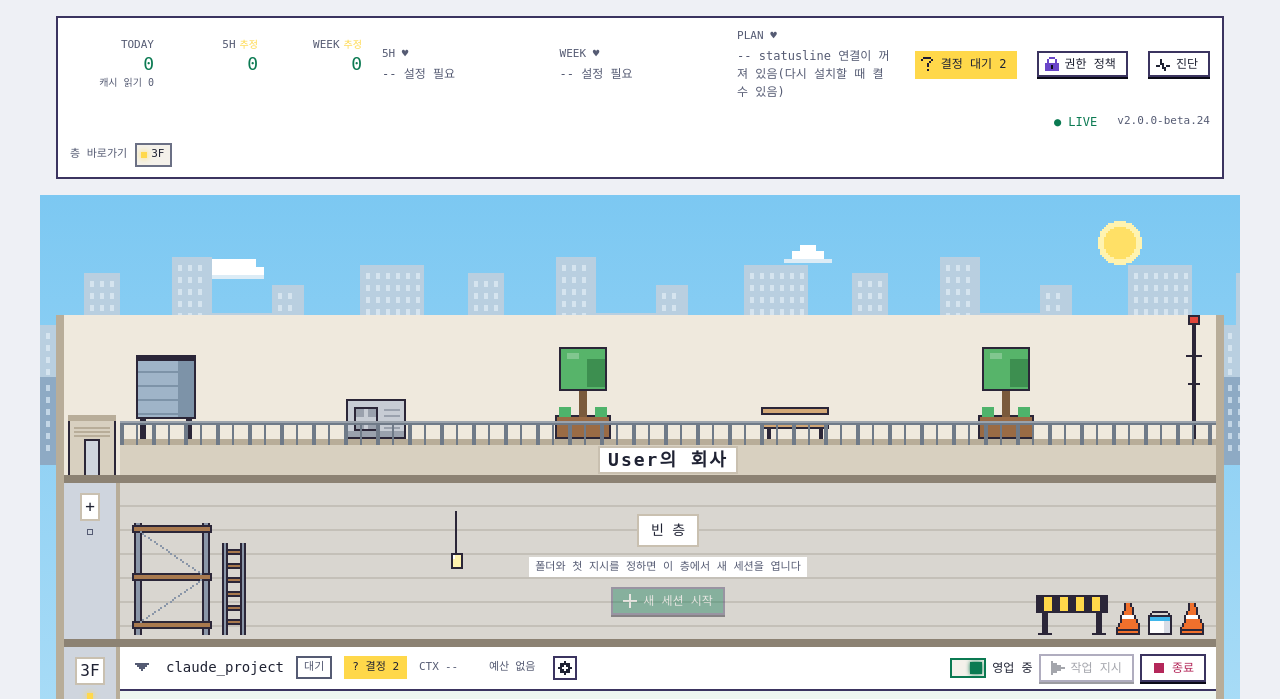
Test: 결정 보고서 열기 › HUD 칩을 누르면 가장 오래 기다린 결정이 열린다
This screenshot has width=1280, height=699.
Step 1. Click the button with aria-label "결정 대기 2건, 다음 요청 열기" → {"x": 966, "y": 64}, box [915, 51, 1016, 77]
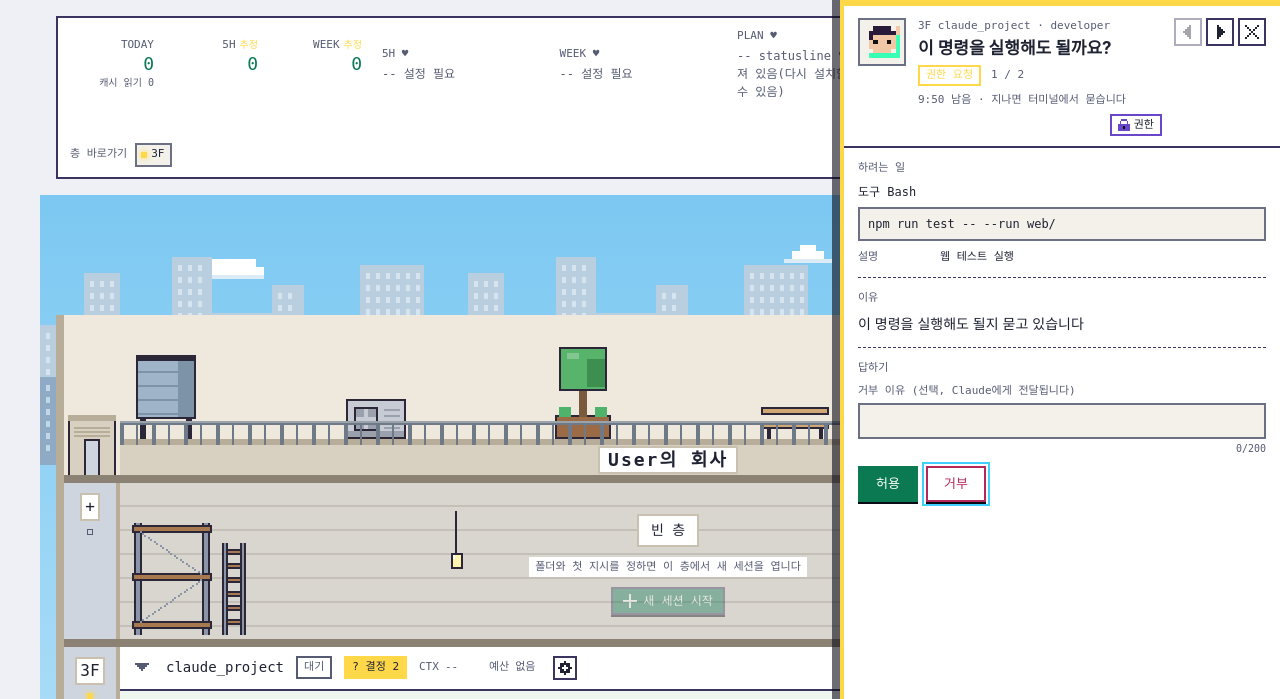
Result: the dialog shows "3F claude_project · developer" at [918, 19, 1110, 32]
Result: the dialog shows "1 / 2" at [991, 68, 1024, 81]
